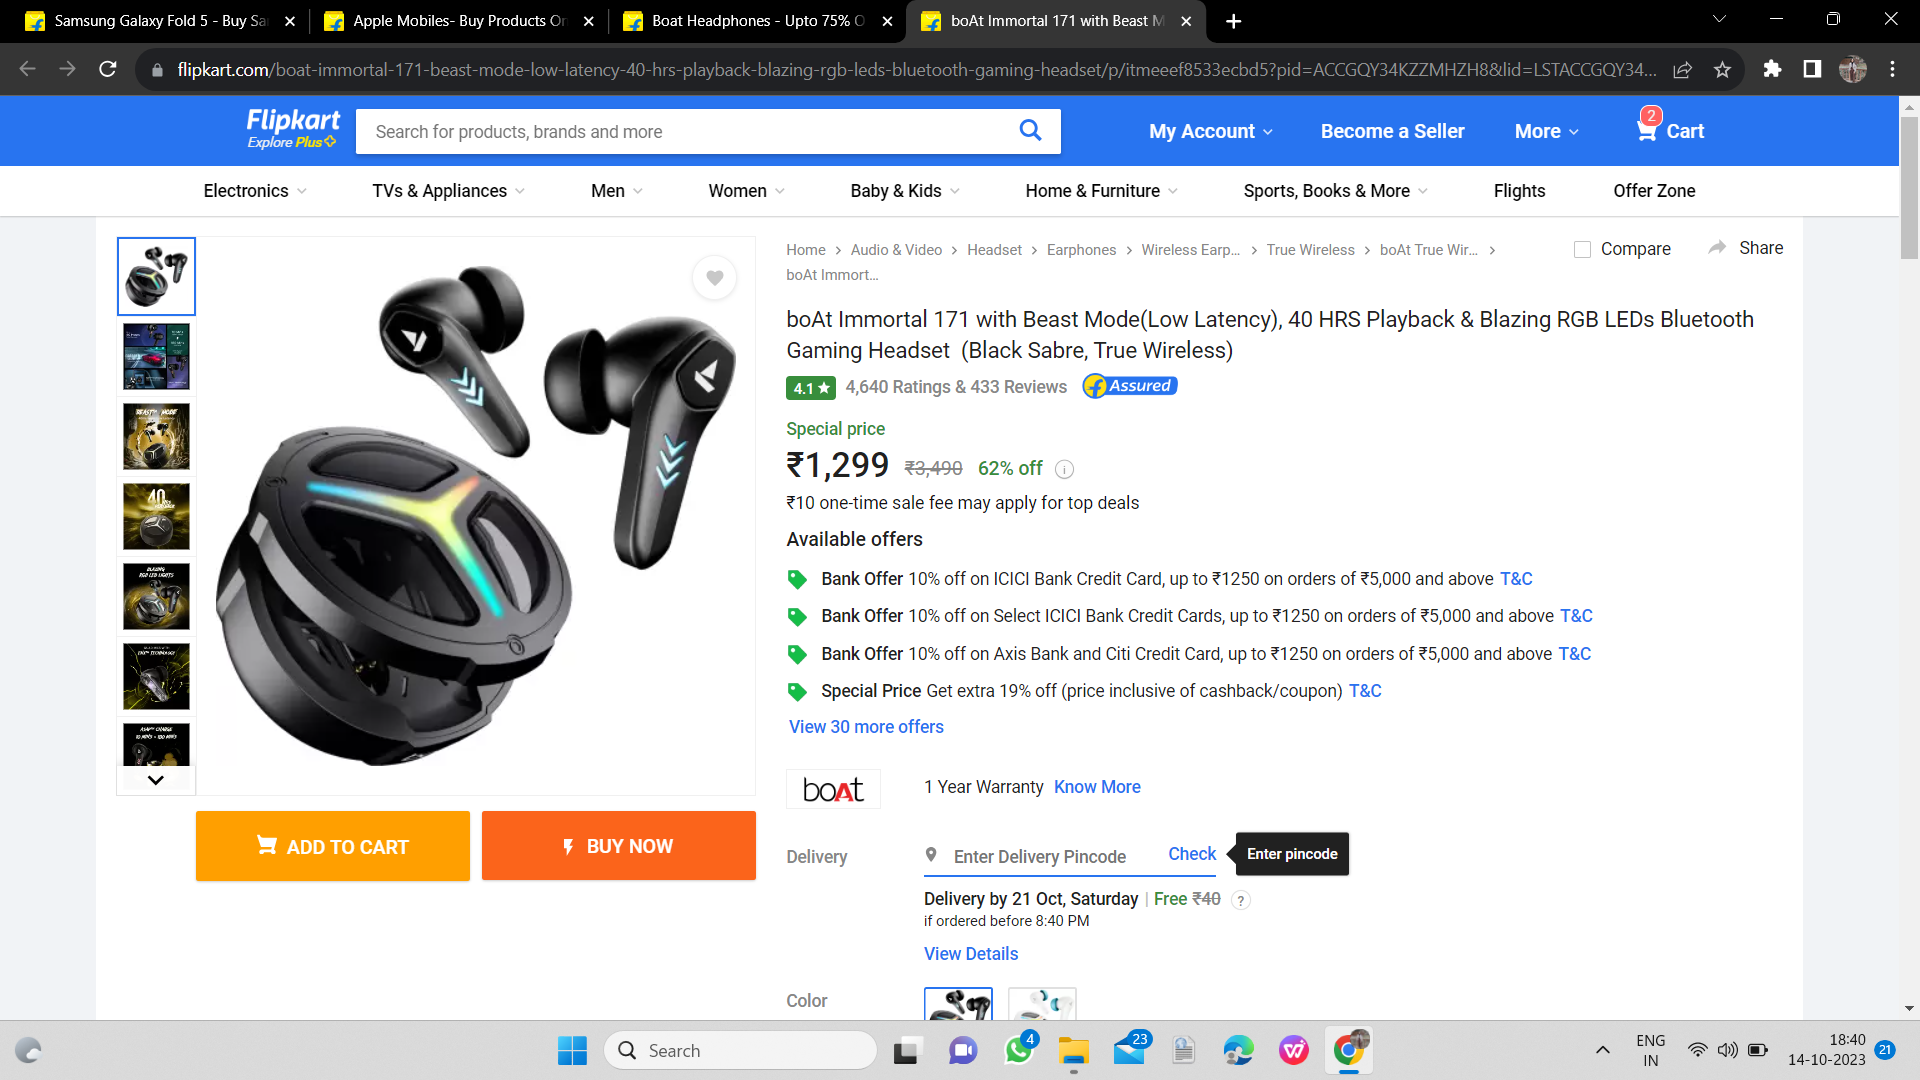Image: (204, 244, 749, 773), (348, 96, 1092, 160)
Paragraph: (783, 566, 1601, 699), (783, 295, 1758, 369), (187, 803, 760, 886), (1130, 109, 1716, 160), (774, 418, 1081, 485), (783, 767, 1156, 814), (779, 522, 934, 550)
